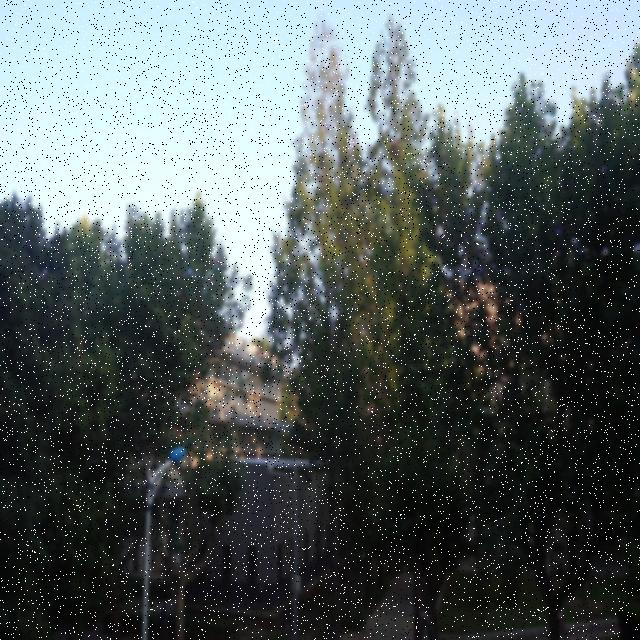UAV: (212, 256, 224, 267)
